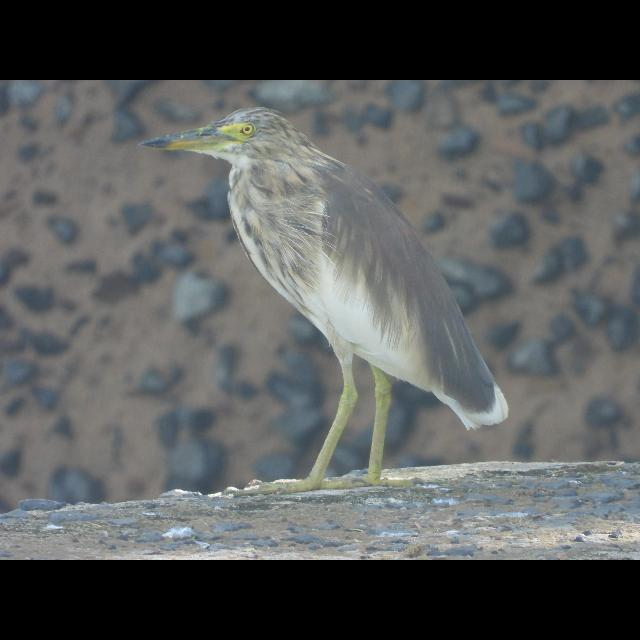heron: (138, 101, 516, 493)
